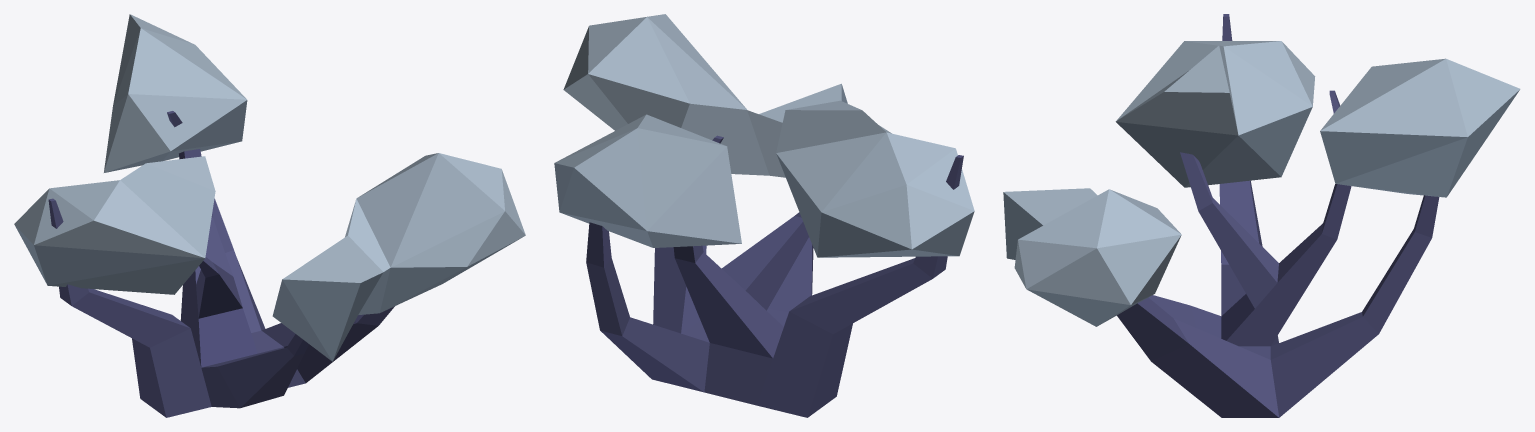
The model's file is BushWinter3_Alt3.fbx.
3 renders of one model, left to right at view 1: azimuth 30°, elevation 25°; view 2: azimuth 150°, elevation 25°; view 3: azimuth 270°, elevation 25°, orthographic. The views are drawn at different scales.
Parts seen in each view (by area): view 1: BushWinter3_Alt3; view 2: BushWinter3_Alt3; view 3: BushWinter3_Alt3.
Part boxes in pixels (<box>): BushWinter3_Alt3: <box>14,14,525,417</box>; BushWinter3_Alt3: <box>554,14,974,417</box>; BushWinter3_Alt3: <box>1003,14,1520,417</box>.
Size of the model in its own units: 0.9191 by 0.6291 by 0.9046.
